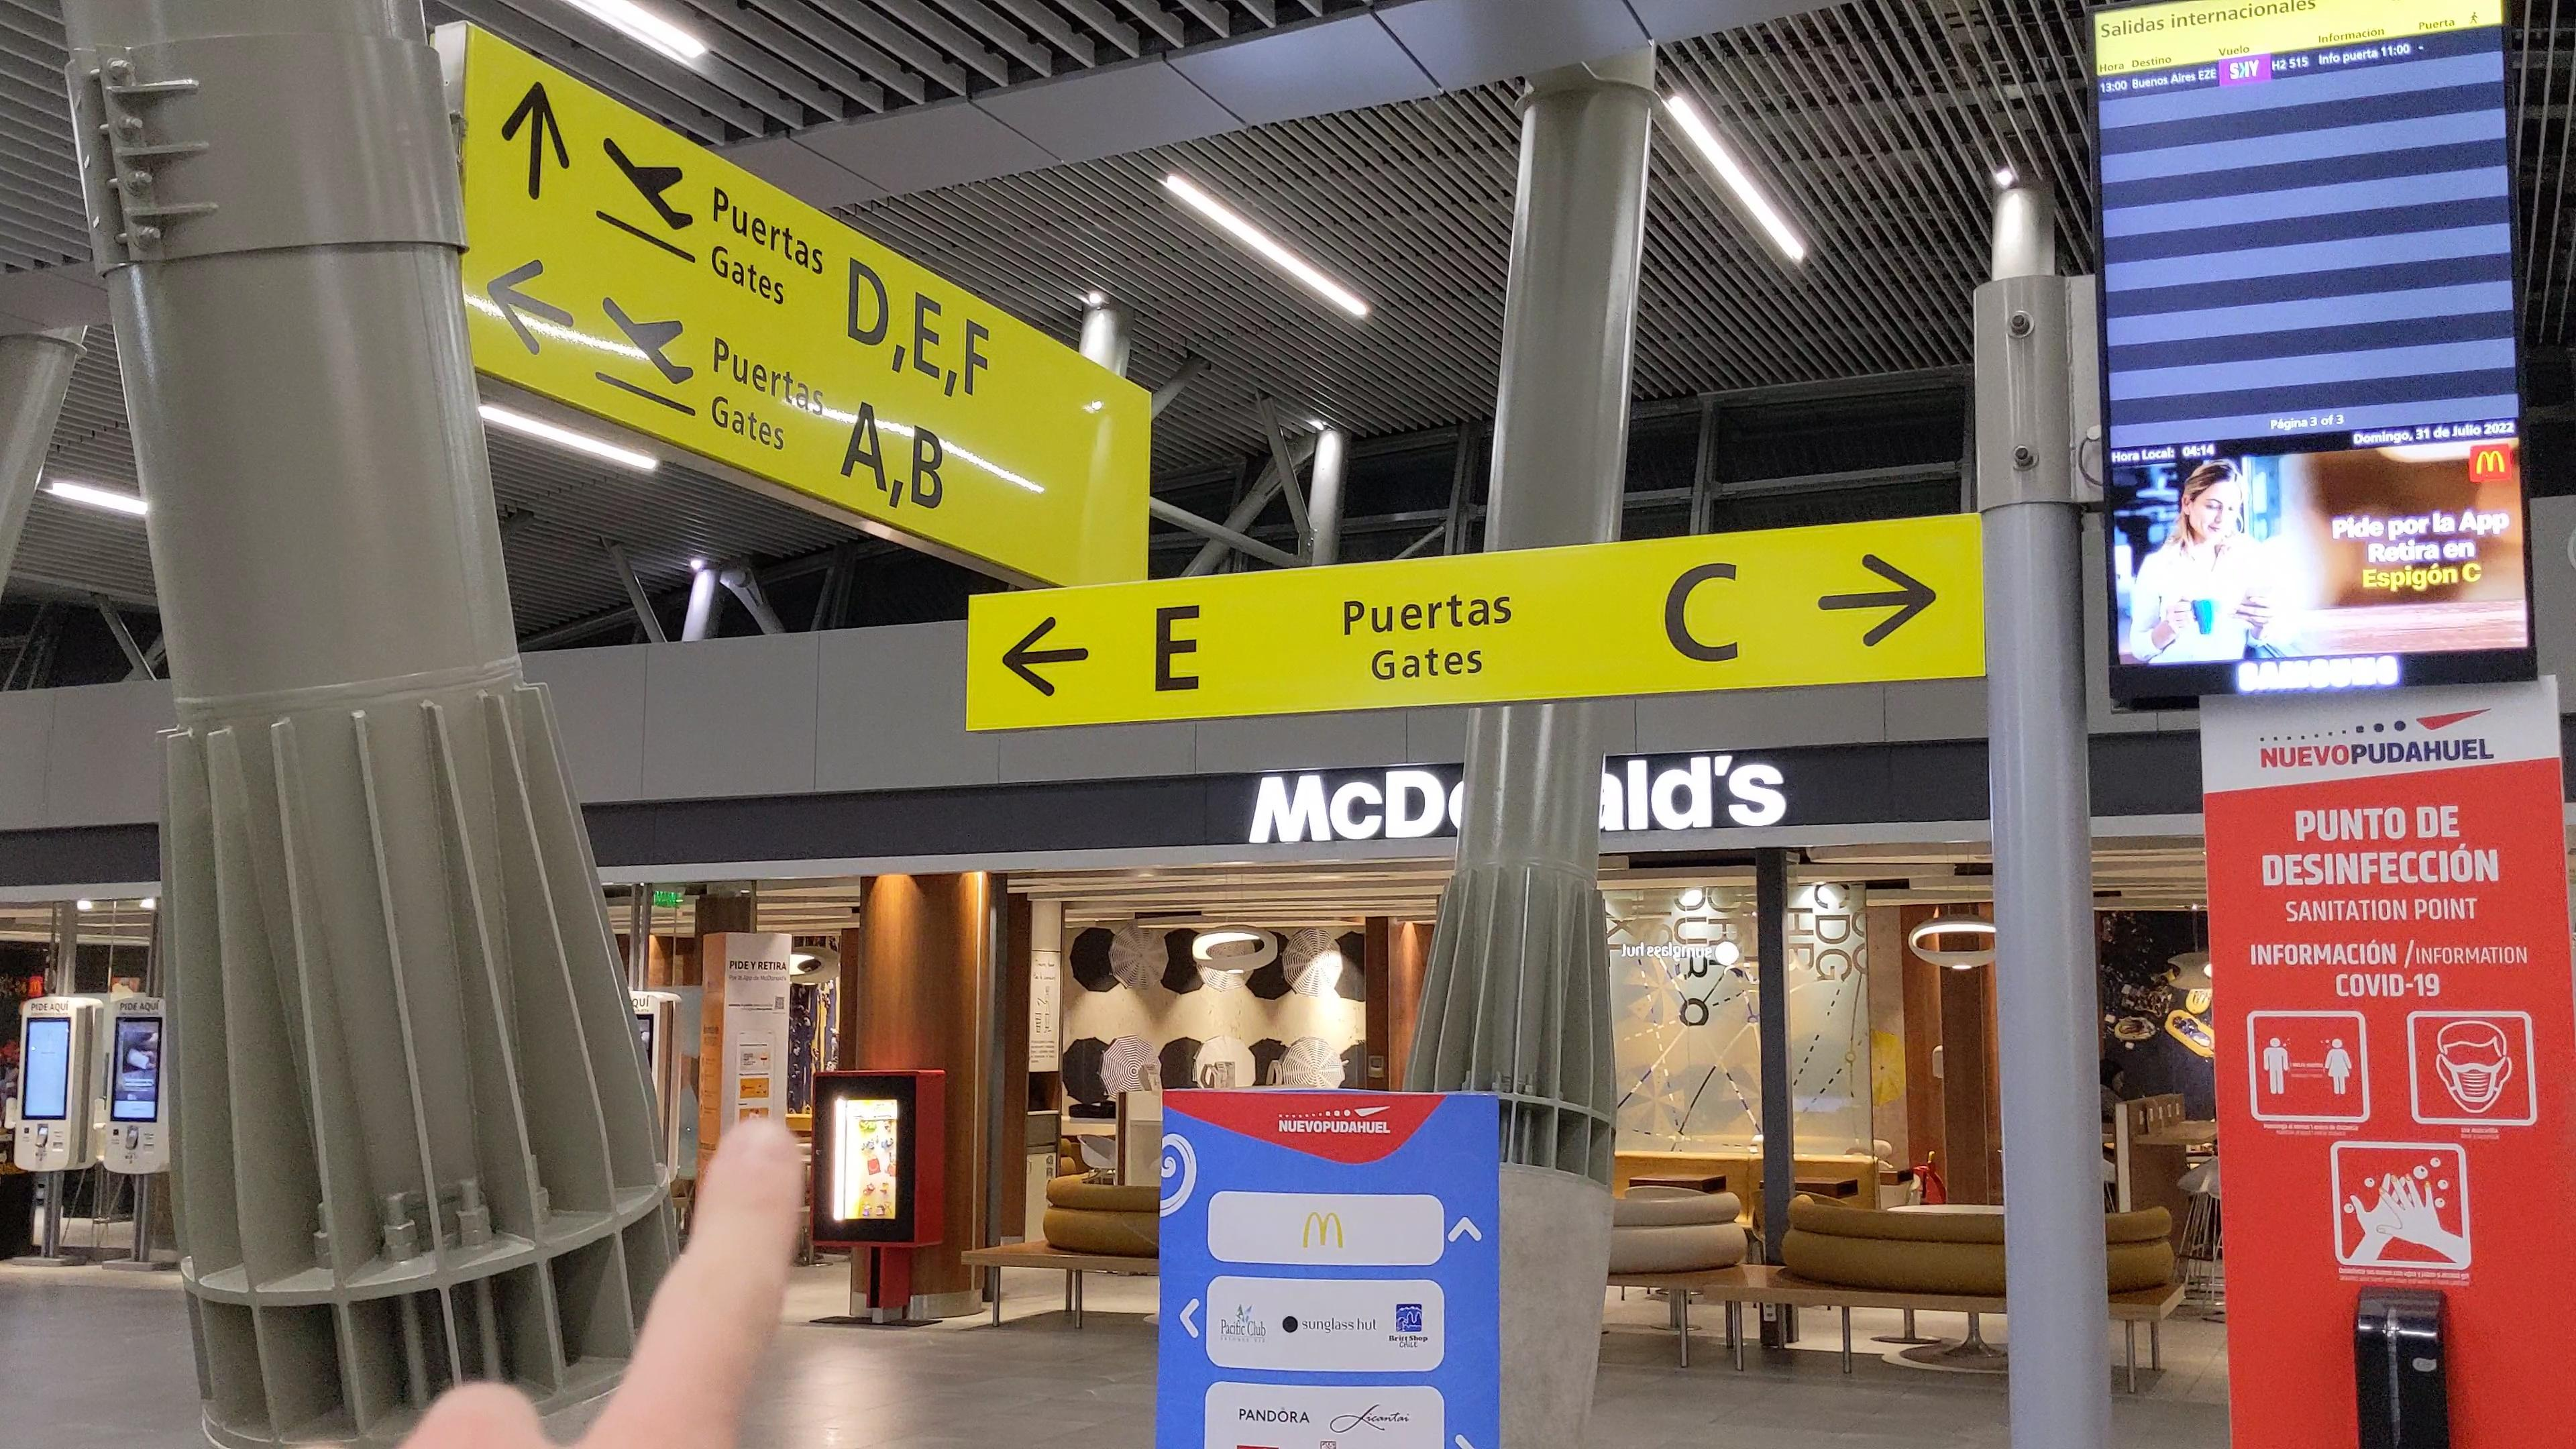airplane symbol: (596, 129, 701, 237), (598, 290, 699, 391)
thin left arrow: (476, 249, 582, 363), (1003, 614, 1095, 702)
thin right arrow: (1815, 550, 1941, 651)
thin up arrow: (497, 71, 571, 205)
